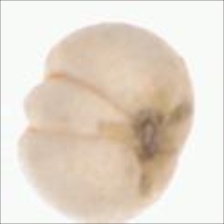L5: (21, 72, 131, 144), (122, 101, 190, 193)
L6: (15, 22, 196, 224)
